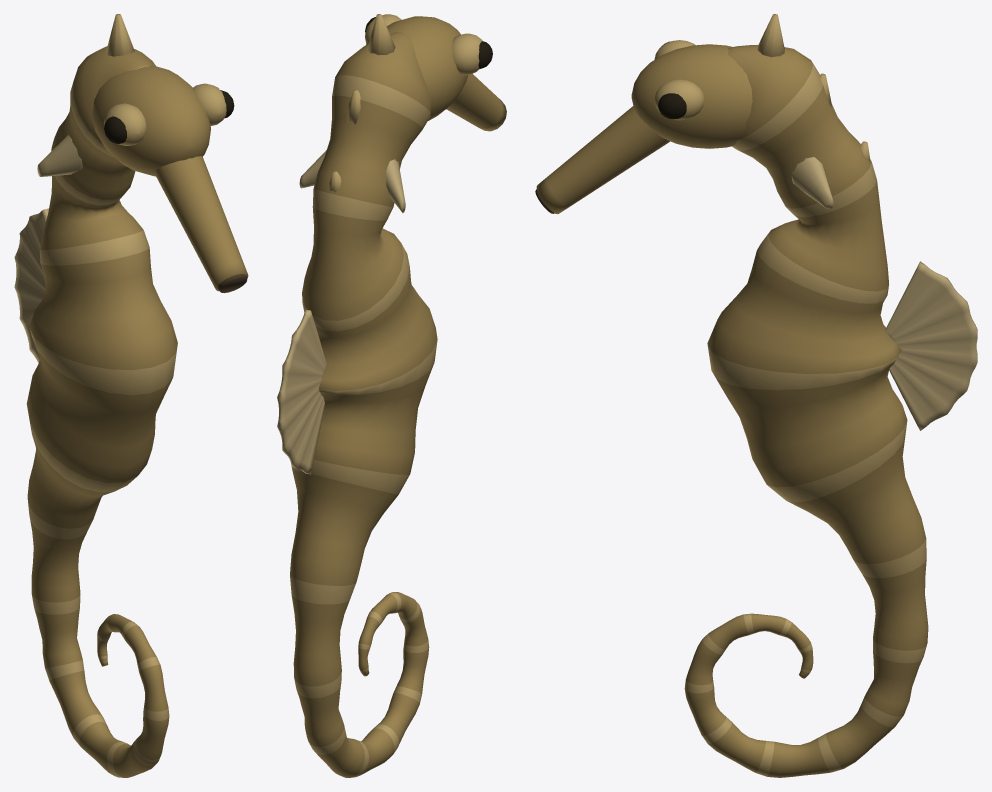
3 renders of one model, left to right at view 1: azimuth 30°, elevation 25°; view 2: azimuth 150°, elevation 25°; view 3: azimuth 270°, elevation 25°, orthographic.
Parts seen in each view (by area): view 1: Continuous_plated_trunk_and_coiled_tail, Horse_like_cheek_head, Tubular_downward_snout, Dorsal_fin_fan, Left_pectoral_fin, Left_bulging_eye_socket, Right_bulging_eye_socket, Coronet_crest_0, Left_glossy_eye; view 2: Continuous_plated_trunk_and_coiled_tail, Dorsal_fin_fan, Horse_like_cheek_head, Tubular_downward_snout, Left_bulging_eye_socket, Coronet_crest_0, Left_pectoral_fin; view 3: Continuous_plated_trunk_and_coiled_tail, Dorsal_fin_fan, Horse_like_cheek_head, Tubular_downward_snout, Right_pectoral_fin, Right_bulging_eye_socket, Coronet_crest_0.
Boxes of the visible parts, x1,y1,x2,y2 form: Continuous_plated_trunk_and_coiled_tail: (26, 46, 177, 777); Horse_like_cheek_head: (92, 65, 210, 176); Tubular_downward_snout: (154, 156, 248, 291); Dorsal_fin_fan: (14, 208, 48, 363); Left_pectoral_fin: (37, 135, 82, 176); Left_bulging_eye_socket: (104, 103, 146, 145); Right_bulging_eye_socket: (193, 83, 226, 125); Coronet_crest_0: (106, 14, 134, 56); Left_glossy_eye: (104, 116, 126, 143); Continuous_plated_trunk_and_coiled_tail: (290, 32, 437, 777); Dorsal_fin_fan: (277, 309, 326, 474); Horse_like_cheek_head: (366, 16, 467, 120); Tubular_downward_snout: (446, 73, 506, 131); Left_bulging_eye_socket: (452, 33, 482, 75); Coronet_crest_0: (367, 14, 395, 55); Left_pectoral_fin: (386, 159, 405, 212); Continuous_plated_trunk_and_coiled_tail: (684, 45, 928, 777); Dorsal_fin_fan: (885, 261, 977, 430); Horse_like_cheek_head: (631, 44, 752, 148); Tubular_downward_snout: (536, 106, 669, 214); Right_pectoral_fin: (791, 157, 833, 209); Right_bulging_eye_socket: (654, 79, 704, 120); Coronet_crest_0: (757, 14, 784, 57).
Size of the model in its own units: 0.0242 by 0.1404 by 0.0739.
